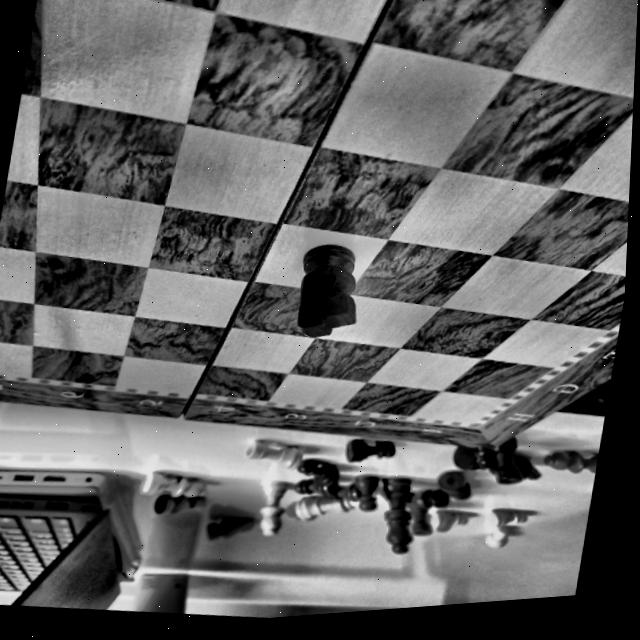black-knight: (287, 233, 371, 352)
